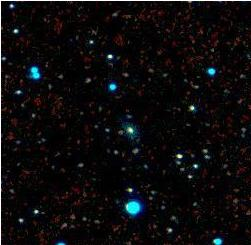star: (105, 118, 135, 148)
